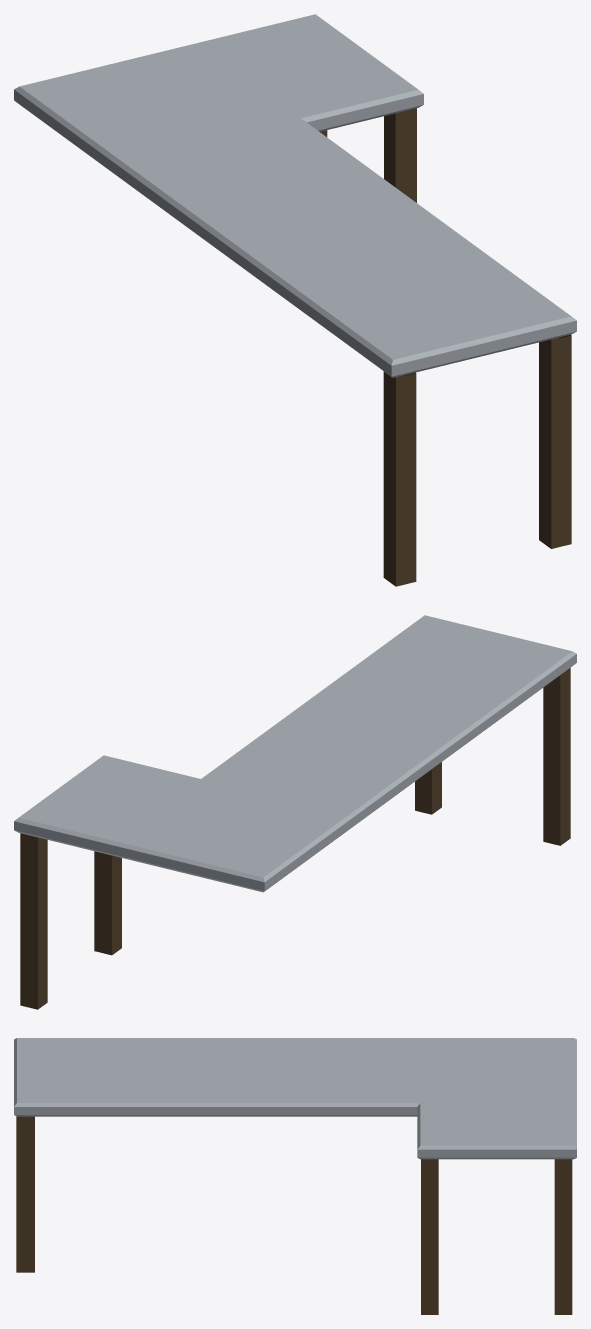
File: tables1.fbx
3 views of the same model, one above another, from view 1: azimuth 30°, elevation 25°; view 2: azimuth 150°, elevation 25°; view 3: azimuth 270°, elevation 25° (orthographic). The views are drawn at different scales.
Visible parts, largest first — view 1: table1_model, pCube14, pCube15, pCube18; view 2: table1_model, pCube17, pCube14, pCube18, pCube15; view 3: table1_model, pCube15, pCube17, pCube18.
Boxes of the visible parts, left/top/right/bottom form: table1_model: left=14, top=14, right=576, bottom=377; pCube14: left=383, top=371, right=416, bottom=586; pCube15: left=539, top=334, right=571, bottom=548; pCube18: left=384, top=108, right=416, bottom=202; table1_model: left=14, top=615, right=576, bottom=892; pCube17: left=20, top=833, right=47, bottom=1009; pCube14: left=543, top=668, right=570, bottom=845; pCube18: left=94, top=851, right=121, bottom=955; pCube15: left=415, top=762, right=441, bottom=814; table1_model: left=14, top=1038, right=576, bottom=1159; pCube15: left=16, top=1116, right=34, bottom=1272; pCube17: left=554, top=1159, right=572, bottom=1314; pCube18: left=421, top=1159, right=438, bottom=1314.
Size of the model in its own units: 7.87 by 5.65 by 16.99.
Materials: 1 (1 with a texture image).
